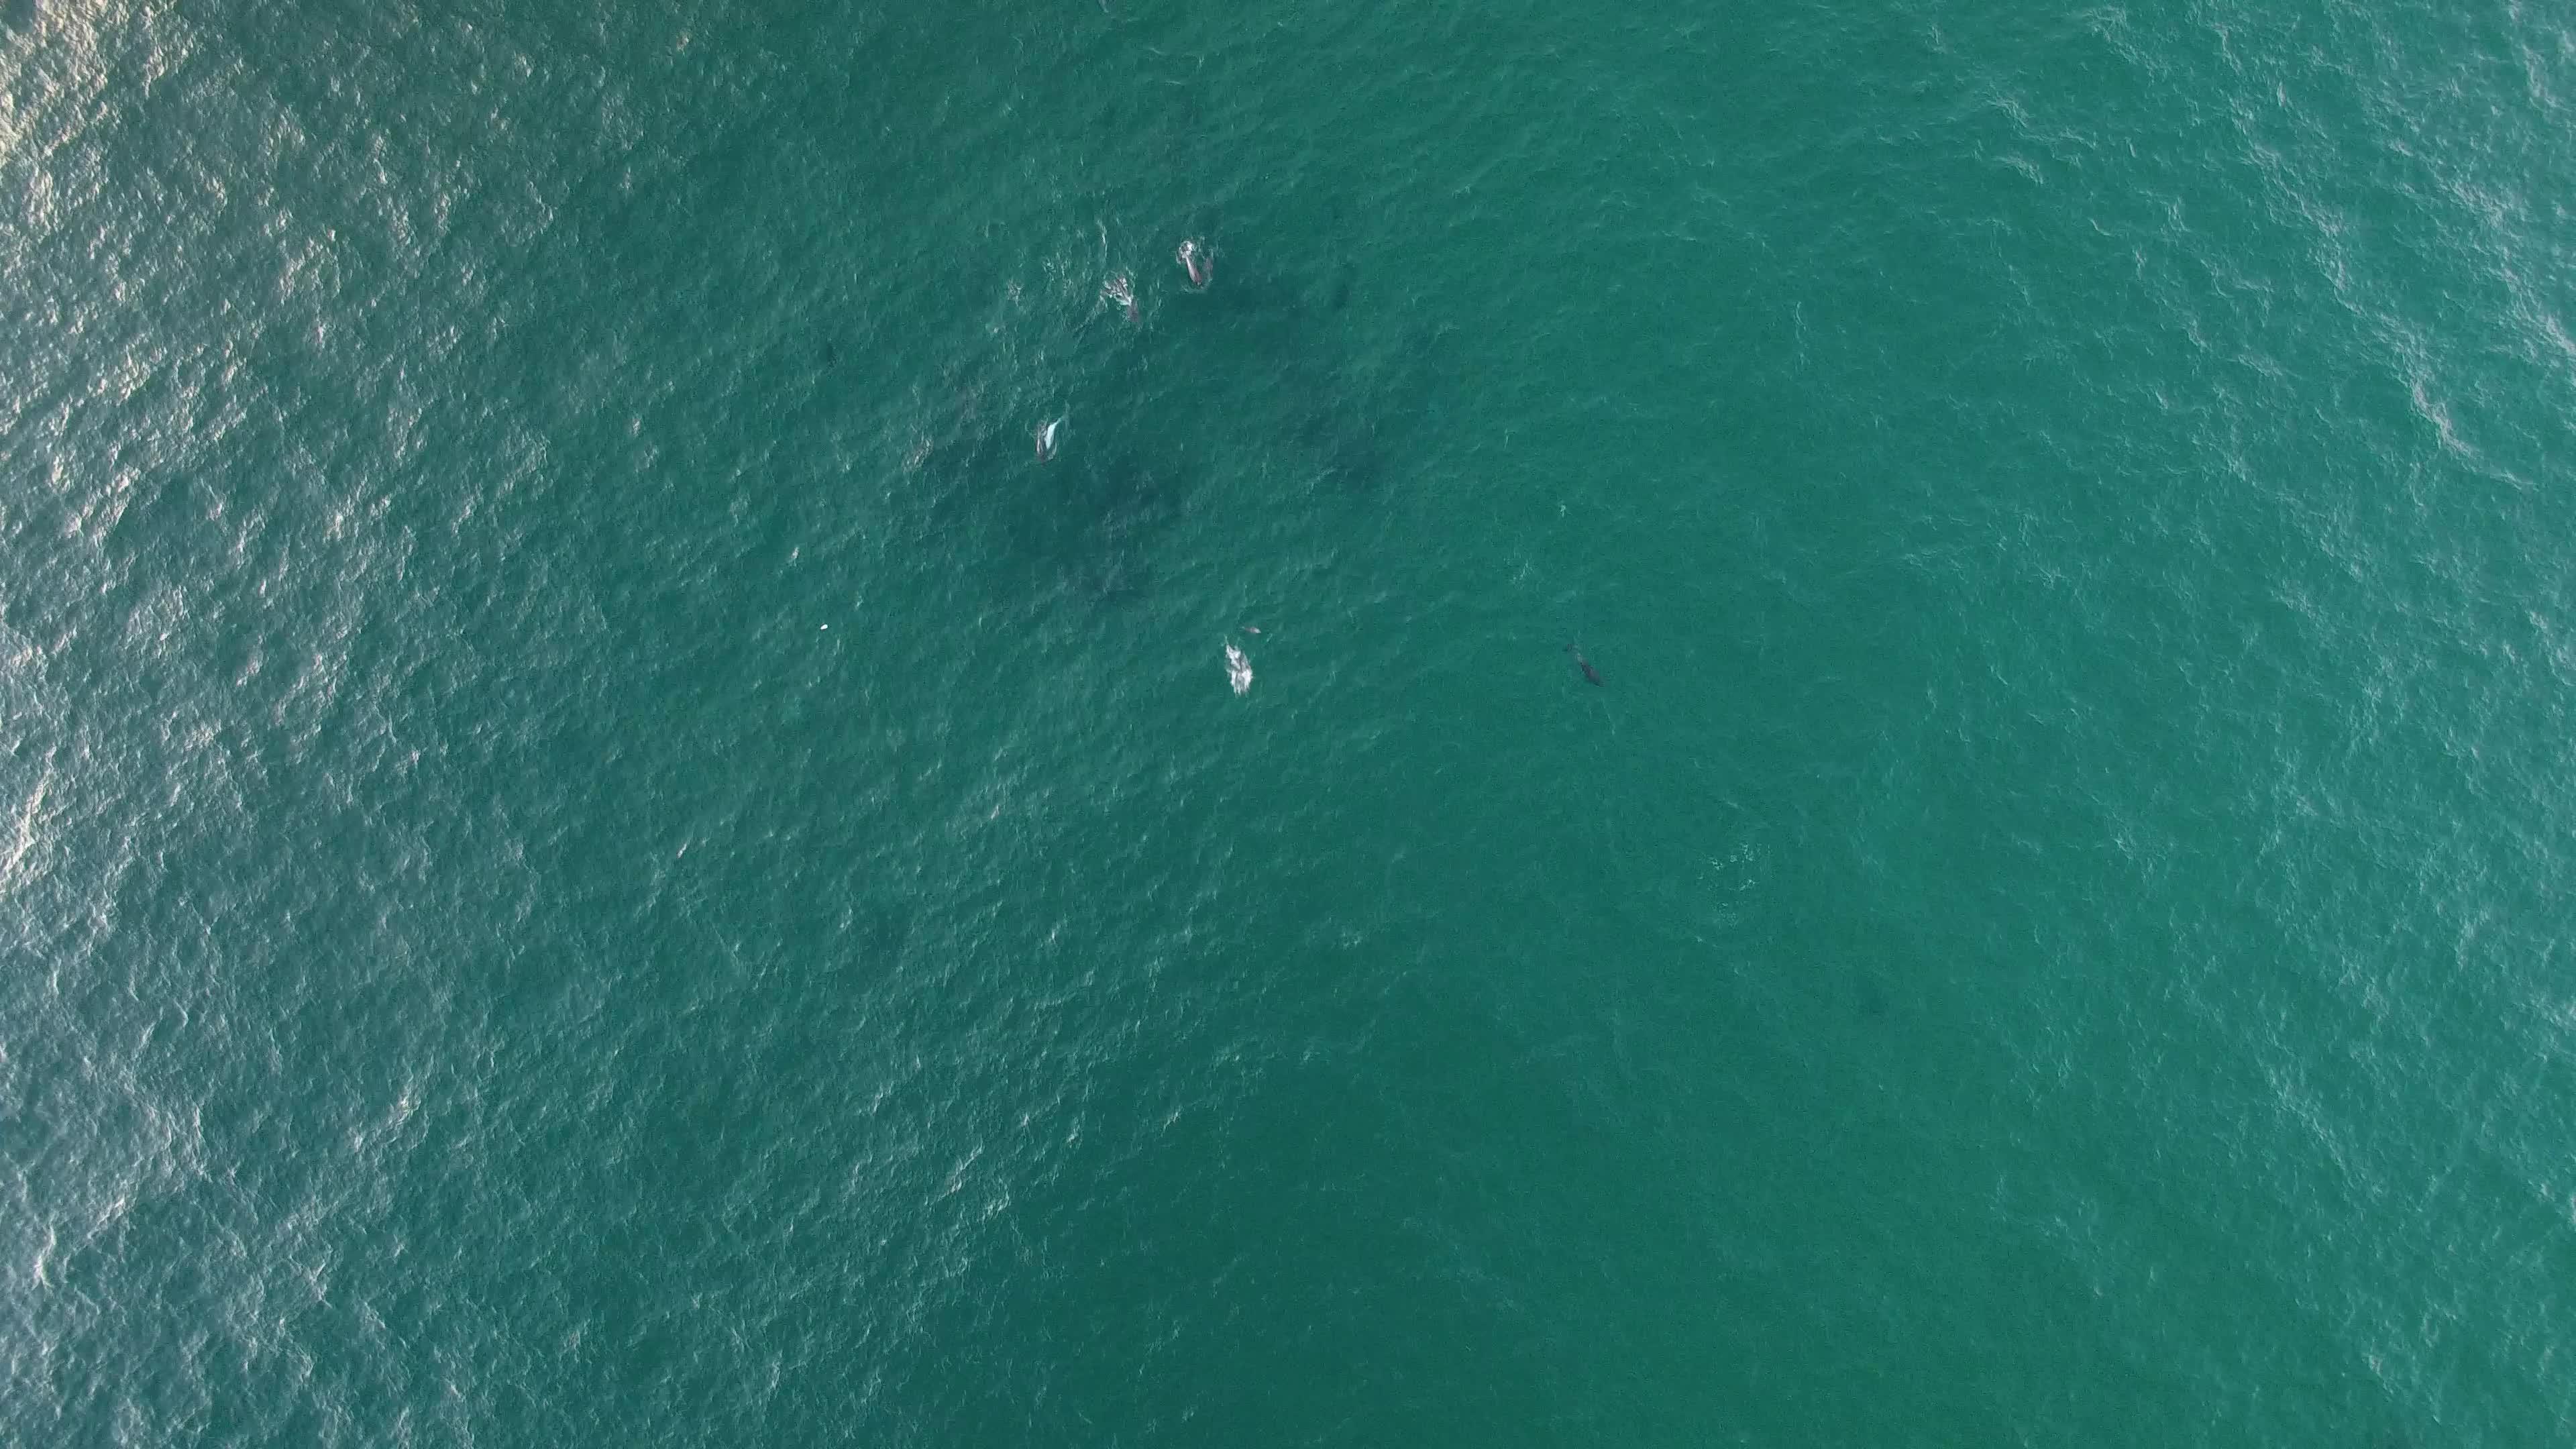dolphin: (1203, 612, 1274, 706), (1541, 617, 1614, 702), (1161, 225, 1228, 301), (1014, 400, 1074, 479), (1093, 267, 1148, 327)
